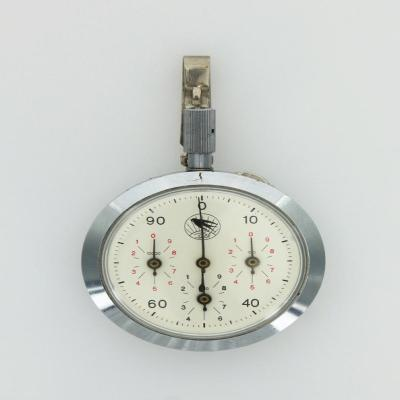technique: (81, 55, 327, 354)
